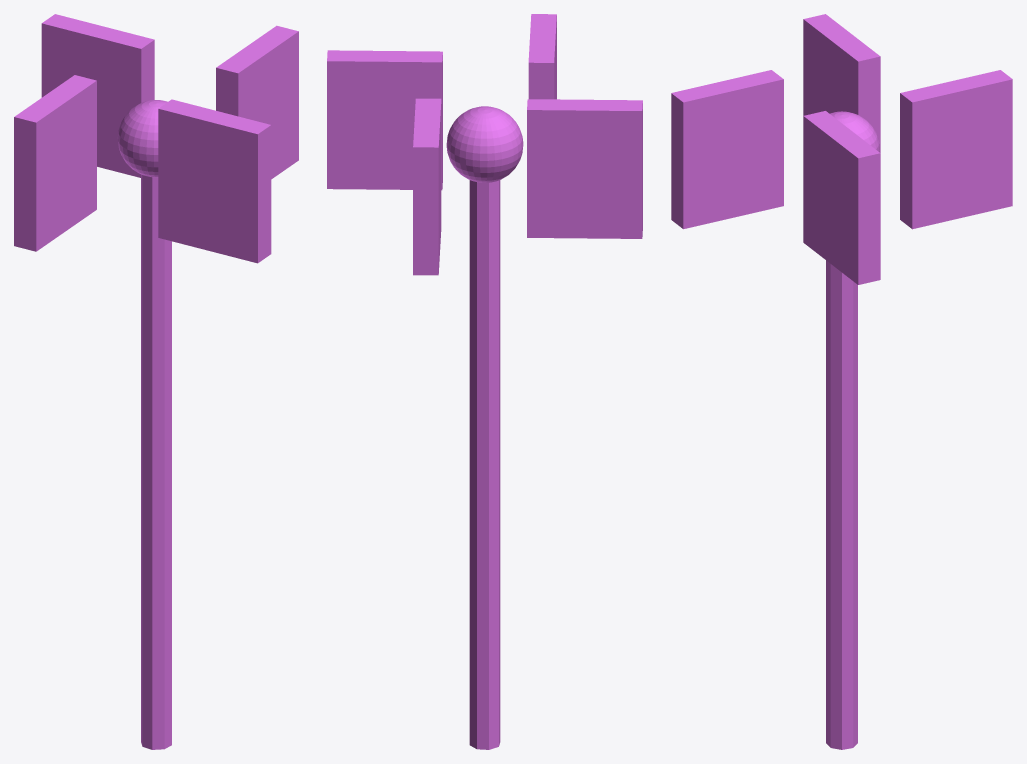
File: Pinwheel.fbx
3 renders of one model, left to right at view 1: azimuth 30°, elevation 25°; view 2: azimuth 150°, elevation 25°; view 3: azimuth 270°, elevation 25°, orthographic.
Visible parts, largest first — view 1: pinwheel; view 2: pinwheel; view 3: pinwheel.
Part boxes in pixels (bbox=[...]): pinwheel: bbox=[14, 14, 298, 749]; pinwheel: bbox=[327, 14, 642, 749]; pinwheel: bbox=[671, 14, 1012, 749].
Bounding box in the file's own units: 53.71 × 114 × 53.71.
